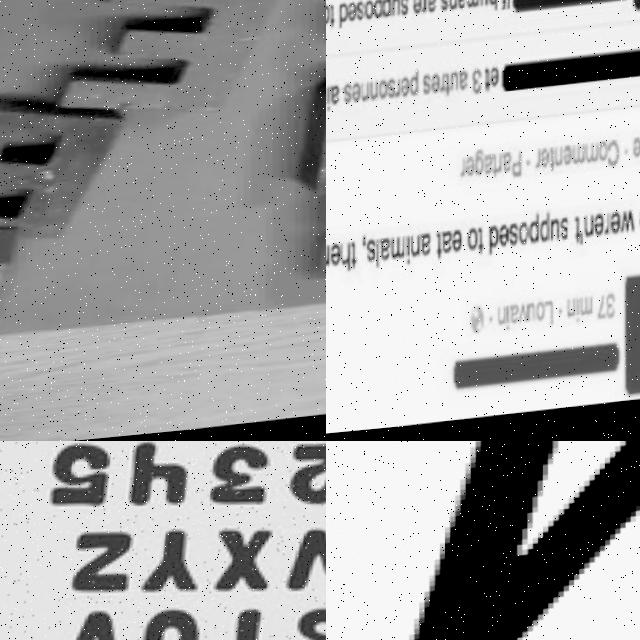2: (287, 444, 326, 518)
3: (209, 449, 275, 519), (471, 73, 482, 104), (607, 303, 616, 330)
4: (127, 444, 189, 518)
5: (45, 442, 113, 515)
7: (598, 304, 606, 331)
A: (380, 244, 391, 269), (442, 237, 453, 261), (422, 239, 431, 263), (502, 160, 511, 182), (483, 162, 492, 184), (331, 87, 339, 111), (426, 0, 435, 21), (455, 0, 465, 18), (458, 78, 467, 97), (512, 313, 520, 333)
B: (0, 89, 128, 255)
C: (608, 150, 619, 179)
D: (489, 232, 499, 263), (339, 7, 348, 35)
E: (39, 0, 300, 136), (594, 221, 603, 249), (331, 248, 341, 273), (563, 154, 573, 177), (400, 81, 410, 104), (611, 221, 620, 245), (500, 233, 509, 257), (540, 157, 550, 178), (465, 164, 475, 185), (453, 236, 462, 259), (347, 5, 355, 30), (631, 146, 640, 168), (489, 75, 498, 97), (430, 79, 439, 101), (411, 0, 420, 22), (352, 86, 360, 108)
F: (500, 0, 506, 19)
G: (474, 156, 484, 185)
H: (341, 248, 351, 278), (488, 0, 498, 19)
I: (406, 240, 410, 271), (577, 306, 580, 335), (507, 314, 510, 340), (326, 90, 329, 116), (506, 0, 510, 19)
L: (545, 310, 554, 336), (376, 244, 381, 273)
M: (390, 242, 407, 268), (584, 152, 599, 175), (580, 304, 594, 327), (572, 153, 586, 176), (465, 0, 479, 17)
N: (585, 224, 594, 251), (412, 241, 421, 266), (554, 157, 563, 177), (568, 307, 576, 329), (447, 0, 456, 19), (360, 89, 369, 107), (498, 315, 506, 333), (370, 89, 378, 107), (326, 247, 330, 272)
O: (519, 229, 530, 254), (363, 4, 373, 27), (468, 234, 477, 259), (598, 152, 608, 173), (537, 309, 546, 332), (378, 83, 387, 106), (326, 8, 329, 31)
P: (539, 220, 551, 254), (530, 221, 540, 252), (512, 159, 522, 188), (409, 74, 417, 103), (381, 0, 390, 25), (373, 0, 381, 22)
R: (393, 82, 400, 105), (496, 162, 503, 183), (534, 158, 541, 178), (604, 223, 610, 246), (460, 166, 466, 187), (439, 81, 445, 100), (421, 2, 427, 20)
S: (509, 230, 518, 256), (560, 227, 569, 252), (367, 244, 376, 269), (399, 1, 408, 24), (423, 78, 431, 103), (343, 86, 351, 110), (356, 5, 364, 28), (439, 0, 448, 20), (387, 83, 394, 105)
T: (477, 234, 485, 264), (574, 226, 581, 254), (350, 247, 357, 274), (436, 239, 443, 265), (483, 75, 490, 101), (548, 158, 555, 182), (491, 162, 497, 189), (445, 78, 450, 104), (330, 9, 335, 33)
U: (280, 64, 326, 208), (551, 226, 560, 251), (449, 80, 459, 99), (390, 4, 399, 23), (527, 311, 535, 332), (479, 0, 487, 14)
V: (520, 312, 528, 332)
W: (621, 220, 635, 245)
